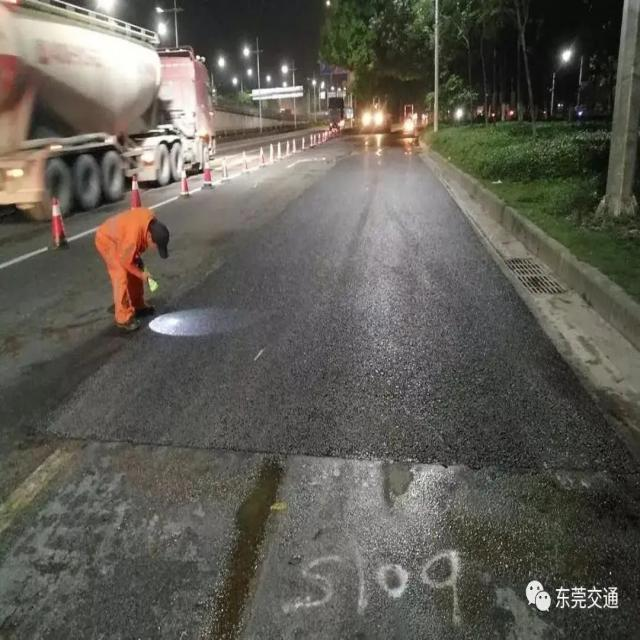Pothole: (212, 454, 290, 639), (382, 468, 415, 494)
